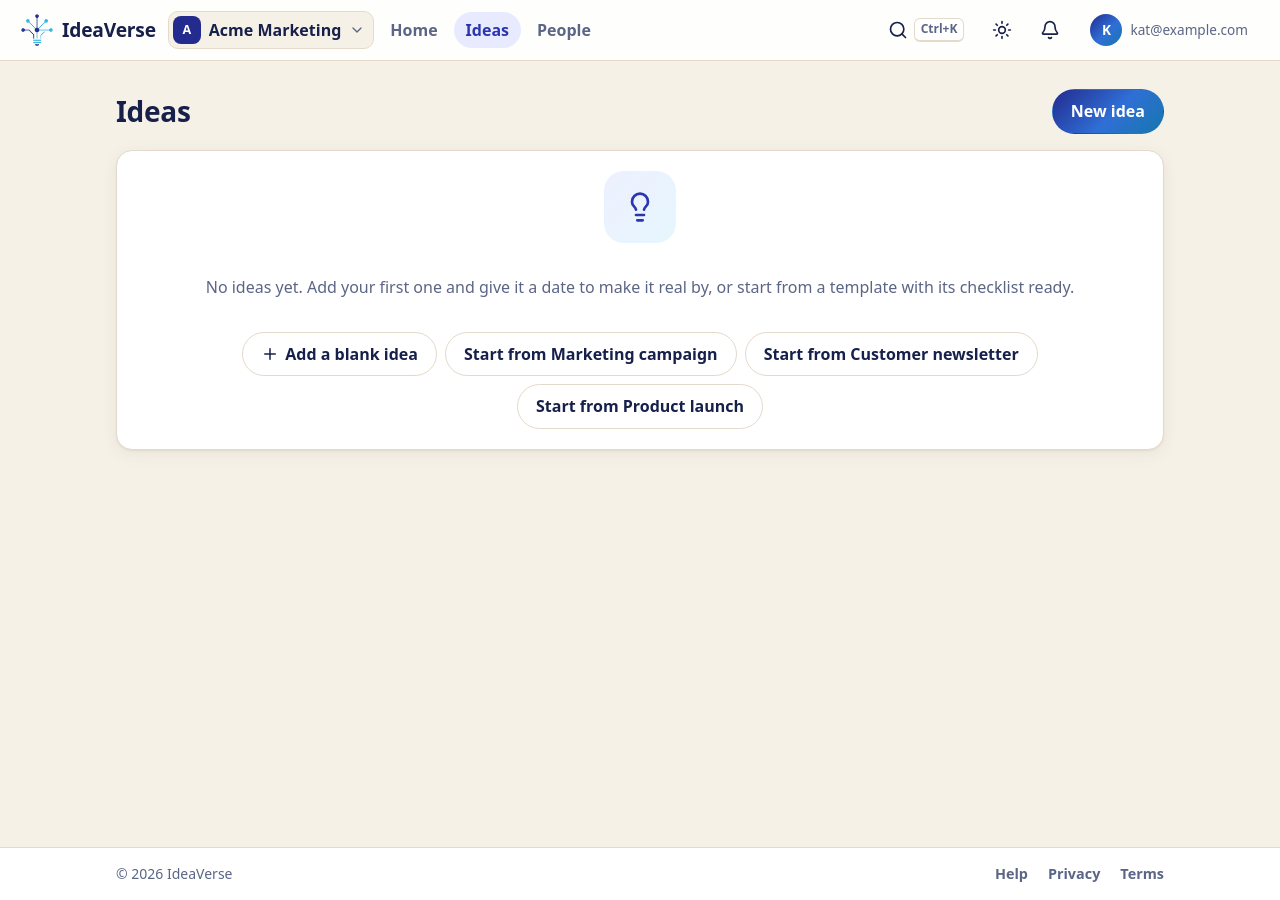
Test: IdeasPage › offers only a blank idea or a template when the workspace has no ideas yet
This screenshot has width=1280, height=900.
Expected: the text "No ideas yet" is shown, x1=206 y1=276 x2=1074 y2=298
Expected: the link "Start from Product launch" is shown, x1=517 y1=384 x2=763 y2=429
What coordinates should you click on to do the following:
click the button "Add a blank idea"
I would click on:
 (340, 354)
Its box is x1=242 y1=332 x2=437 y2=376.
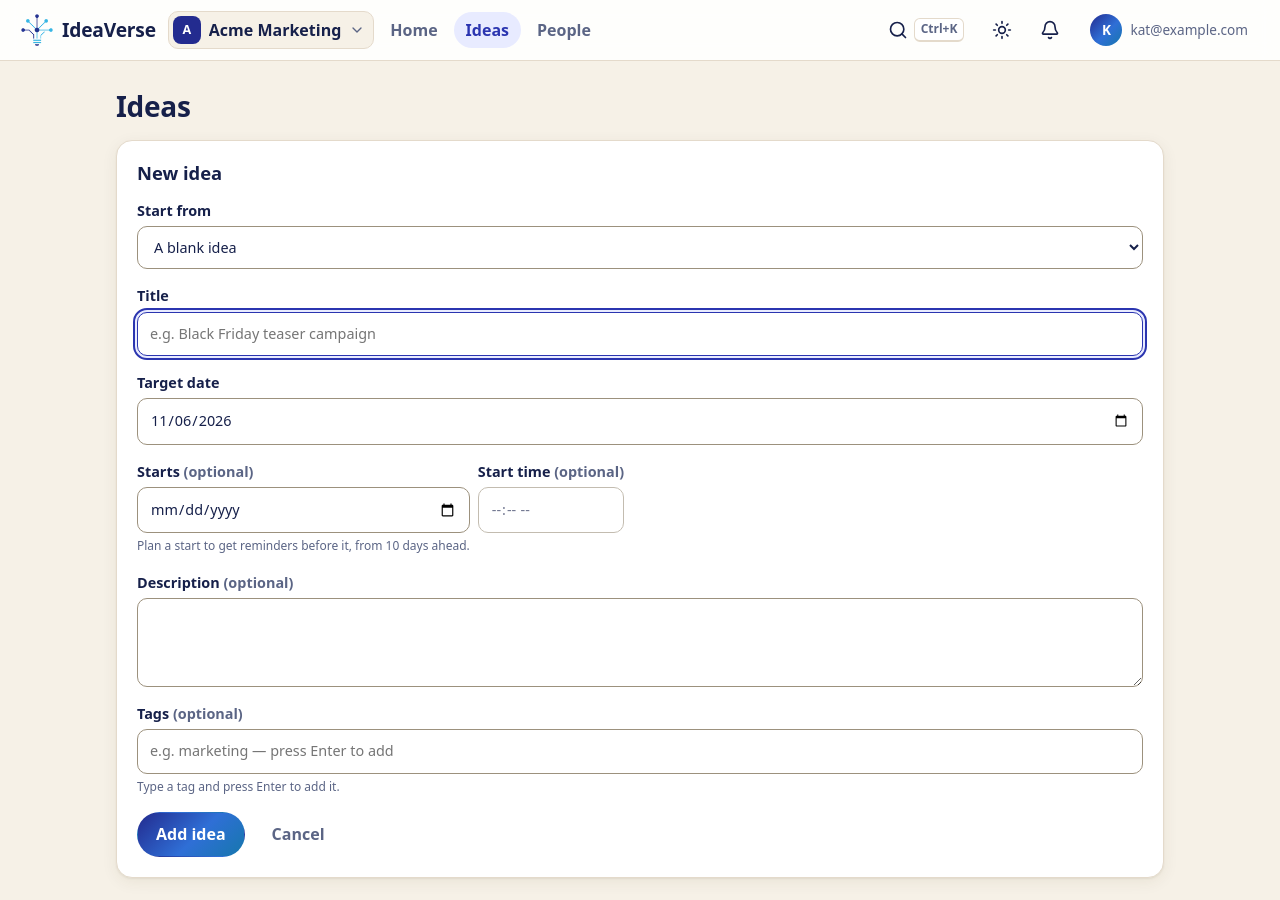
Now the form "New idea" is shown
Now the text "No ideas yet" is gone
